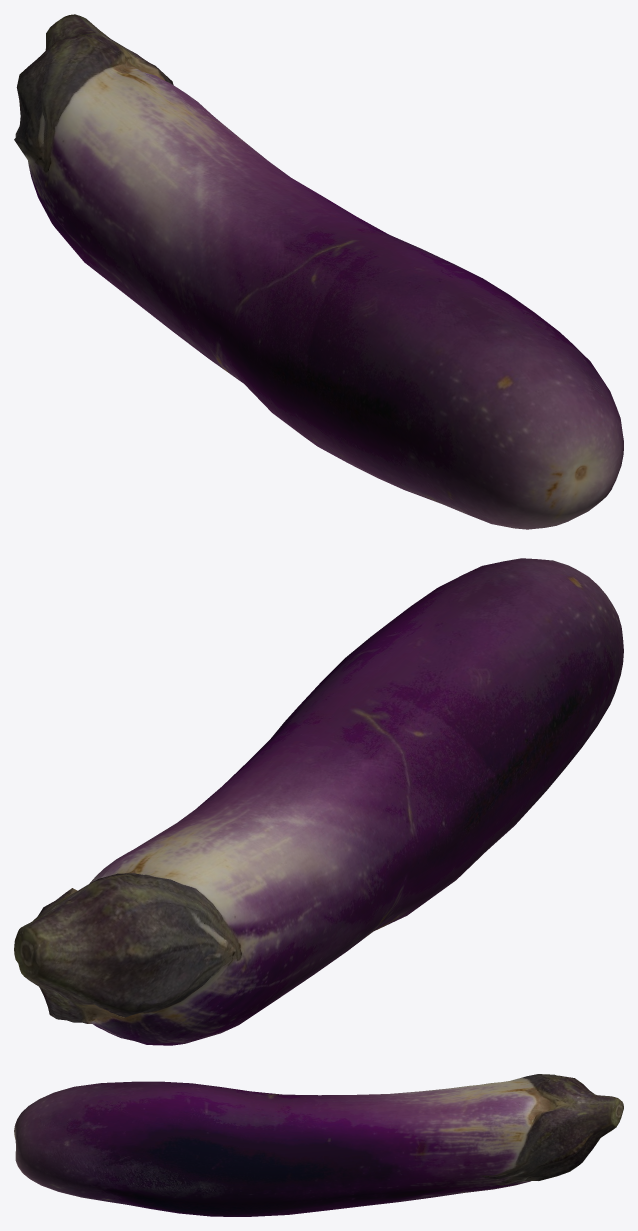
The picture shows the model from 3 angles, top to bottom: view 1: azimuth 30°, elevation 25°; view 2: azimuth 150°, elevation 25°; view 3: azimuth 270°, elevation 25°; orthographic projection. The views are drawn at different scales.
Parts seen in each view (by area): view 1: Eggplant; view 2: Eggplant; view 3: Eggplant.
Boxes of the visible parts, x1=… form: Eggplant: x1=14, y1=14, x2=623, y2=529; Eggplant: x1=14, y1=558, x2=623, y2=1045; Eggplant: x1=14, y1=1074, x2=623, y2=1216.
Size of the model in its own units: 0.0526 by 0.0556 by 0.2365.
1 material, 1 textured.
